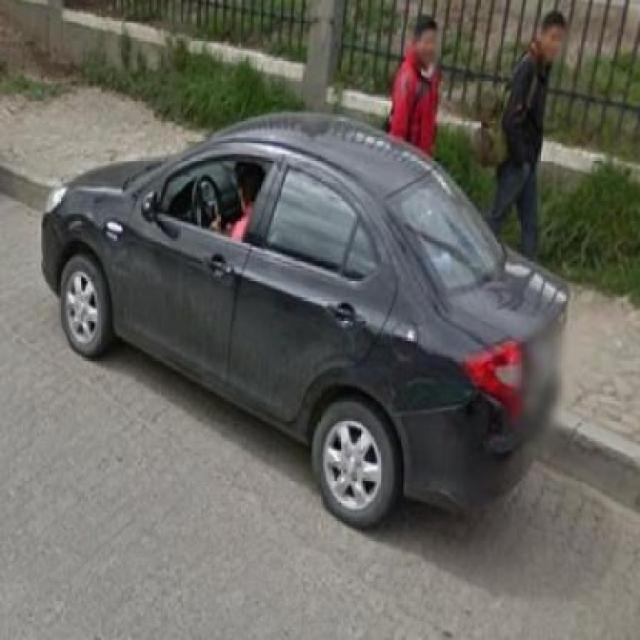car: (42, 100, 570, 531)
